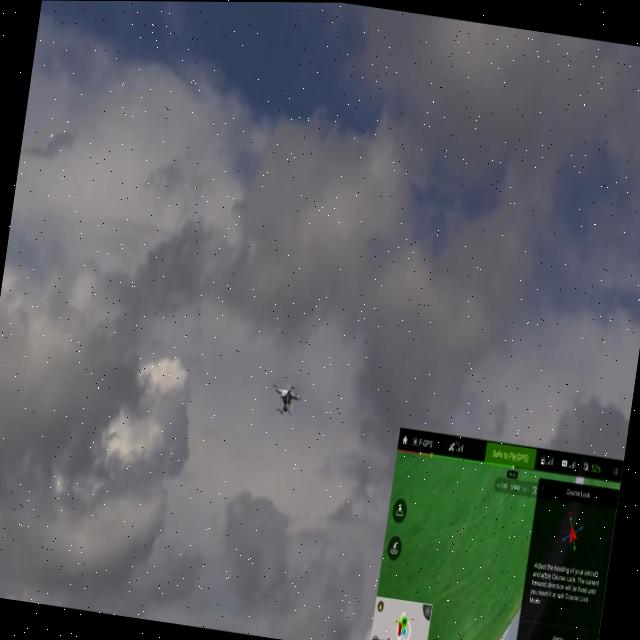drone: (270, 378, 304, 419)
